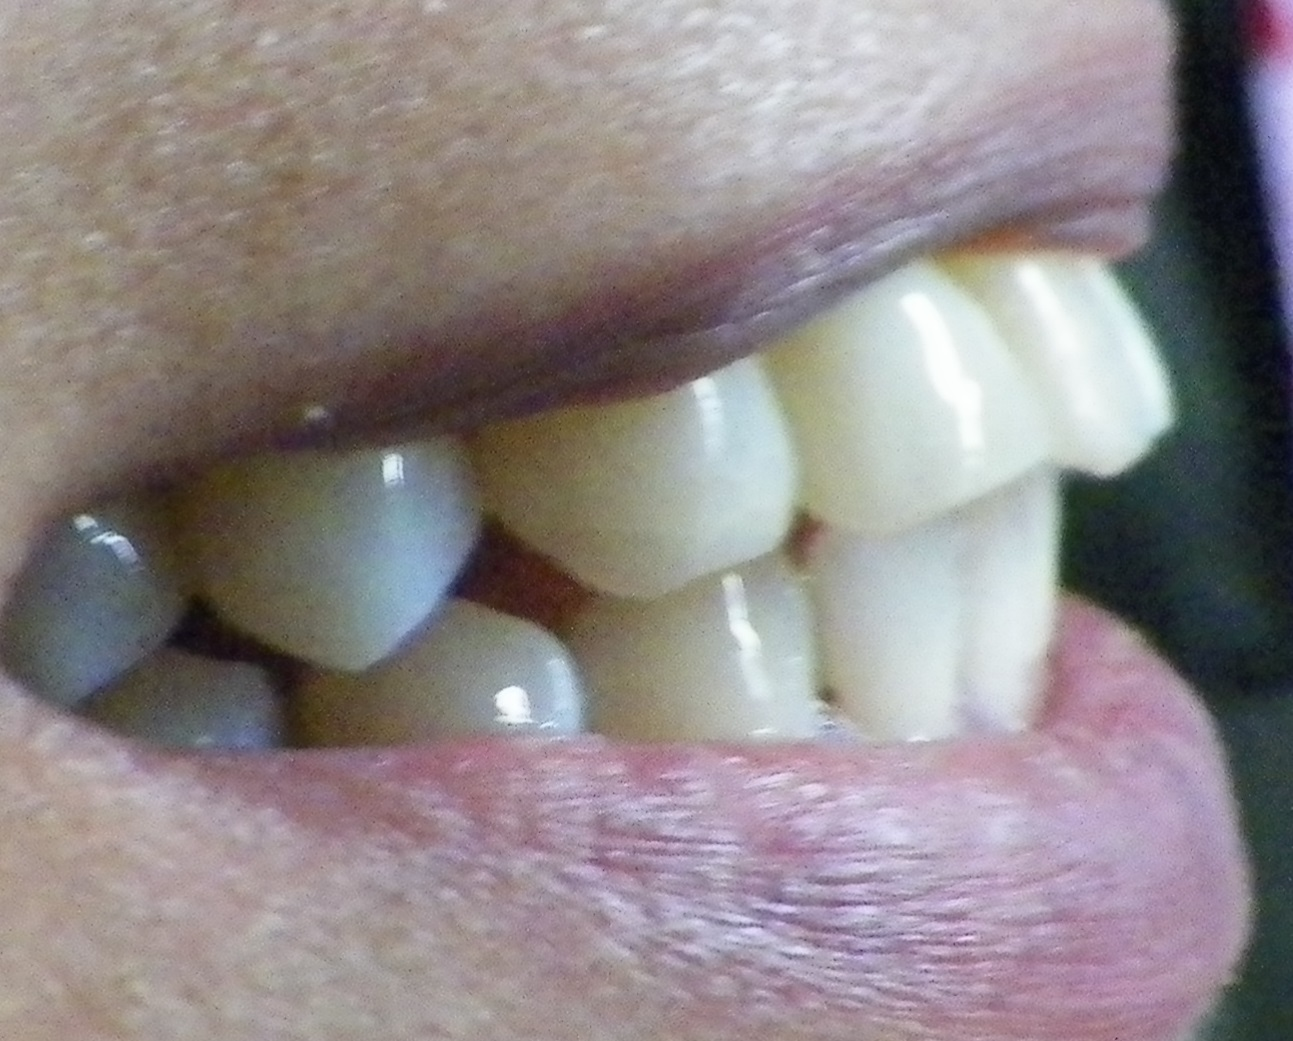boca: (47, 220, 1201, 745)
